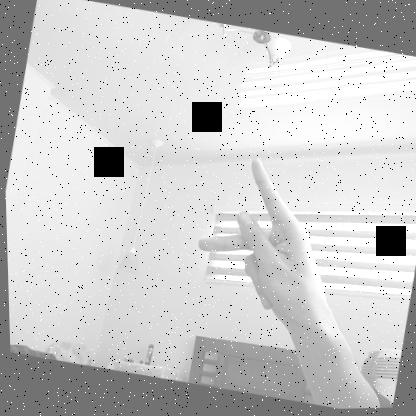K: (179, 147, 339, 336)
